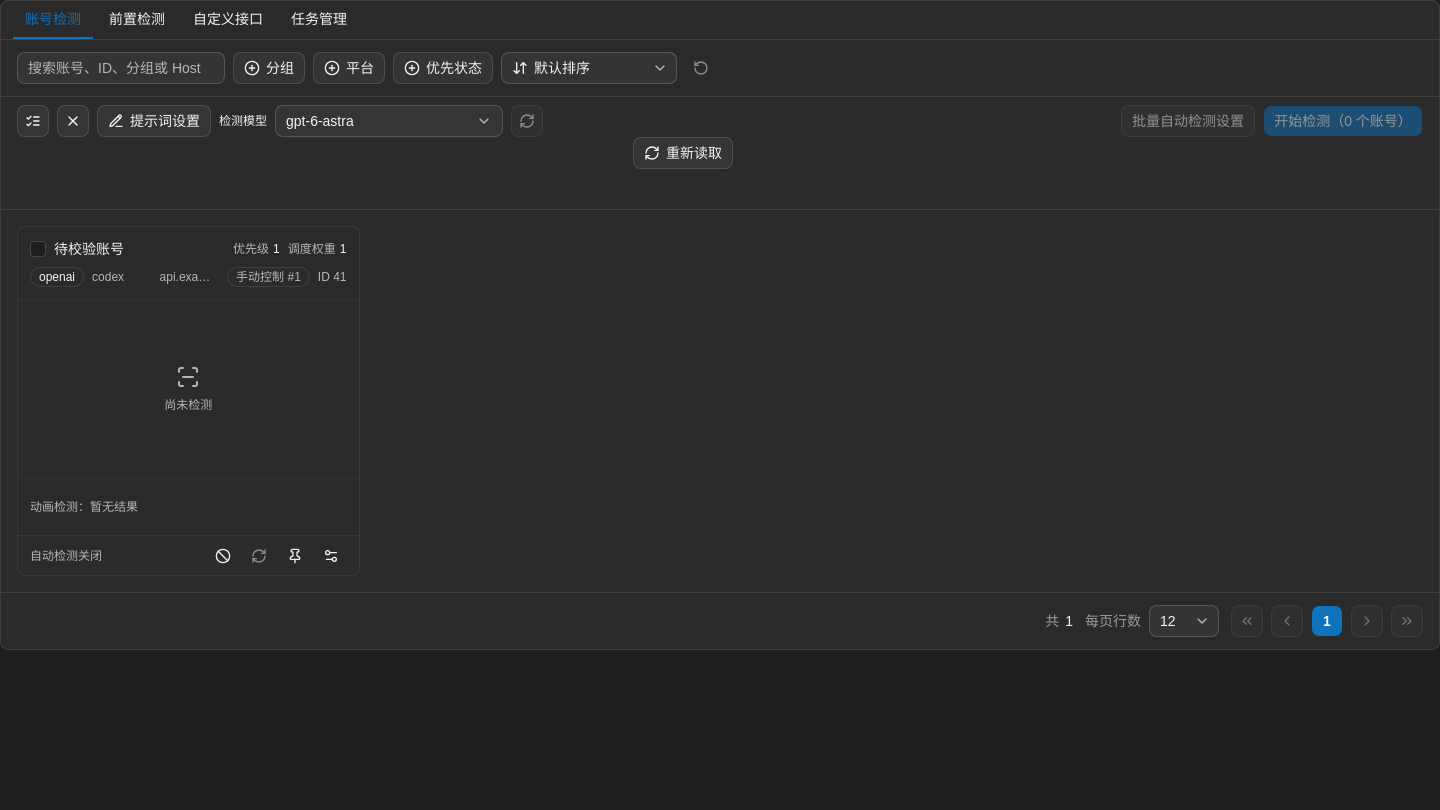
Test: 手动控制筛选下取消成功后，账号立即退出列表
Click the button with aria-label "优先状态筛选".
click(443, 68)  # box [393, 52, 493, 84]
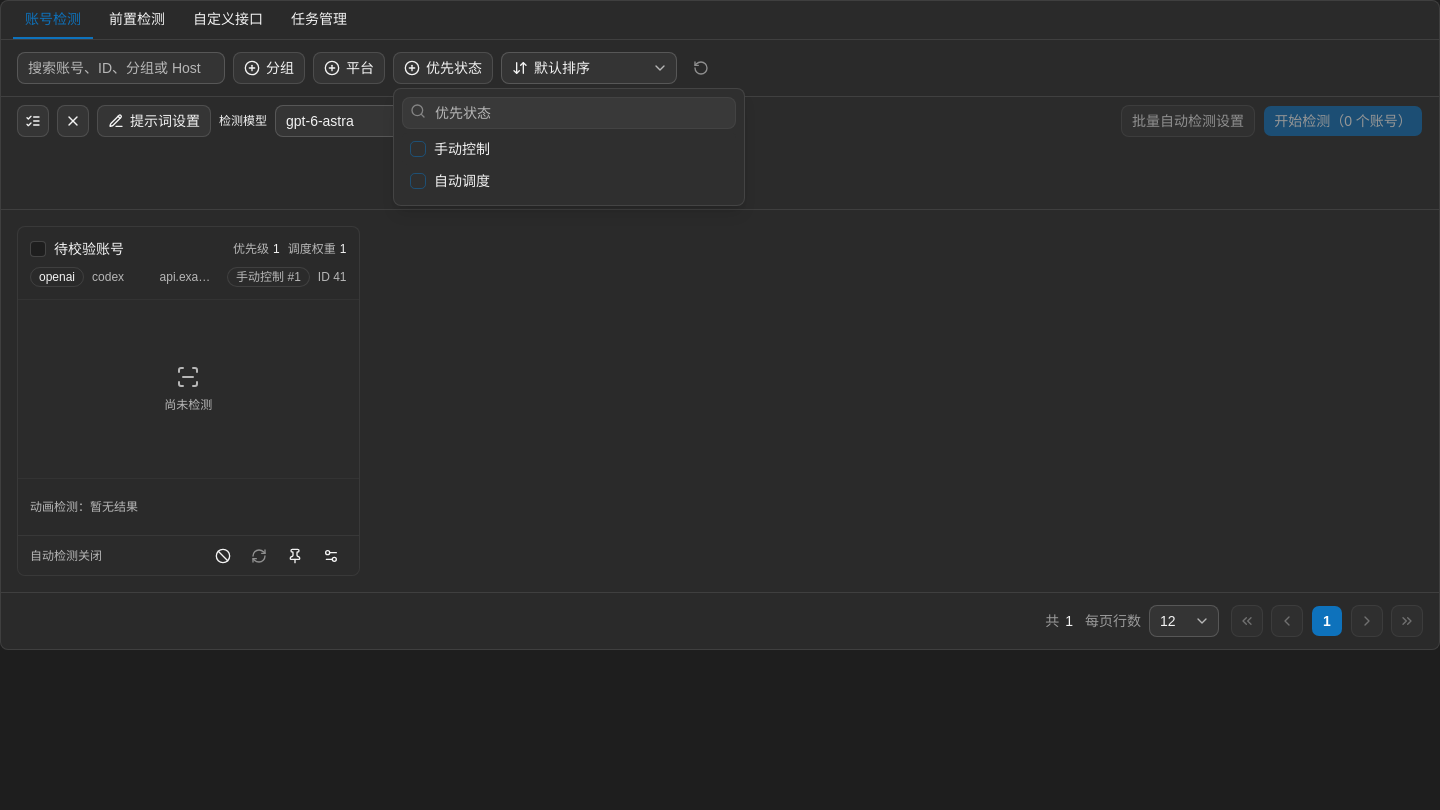
Click the option "手动控制".
click(462, 149)  # box [402, 133, 736, 165]
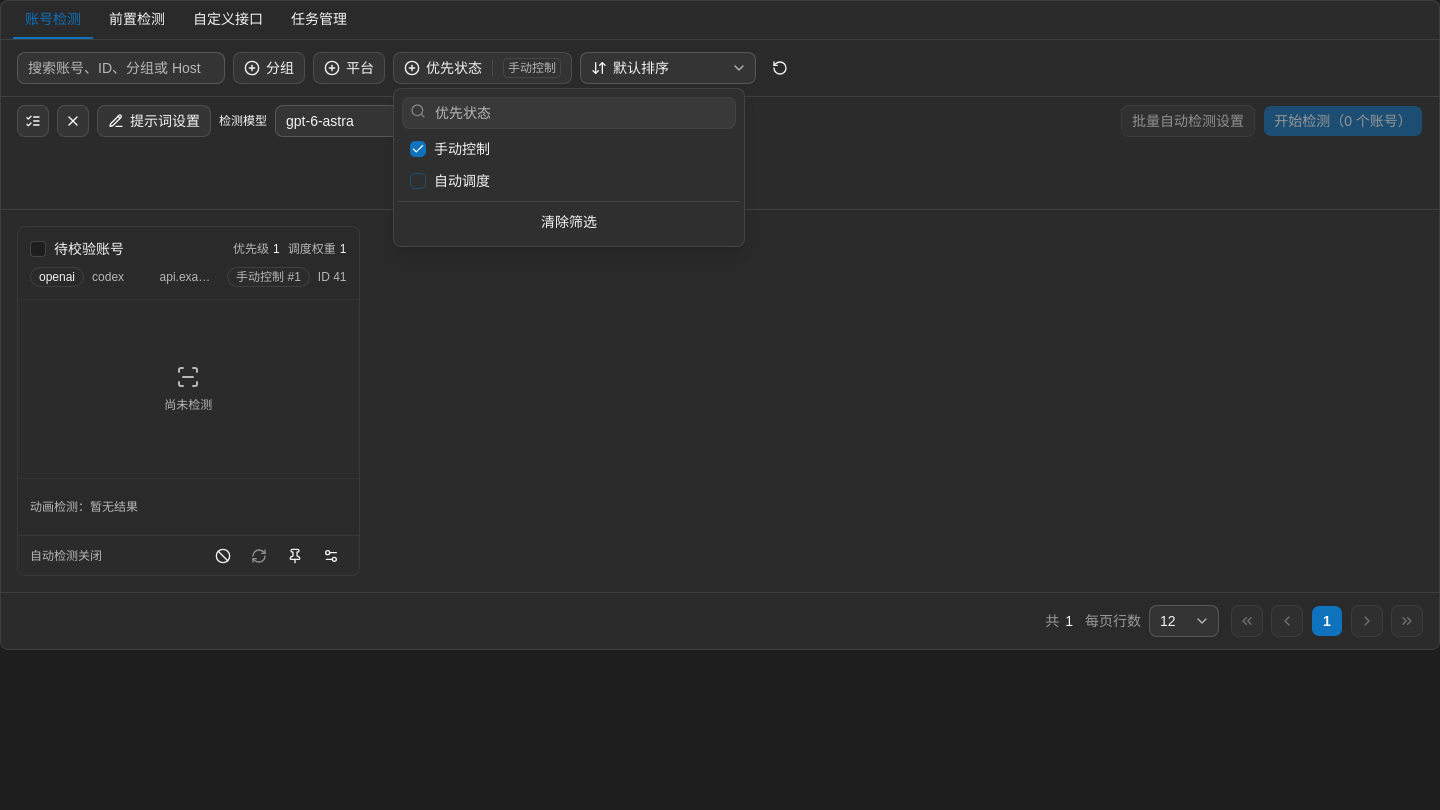
Press Escape
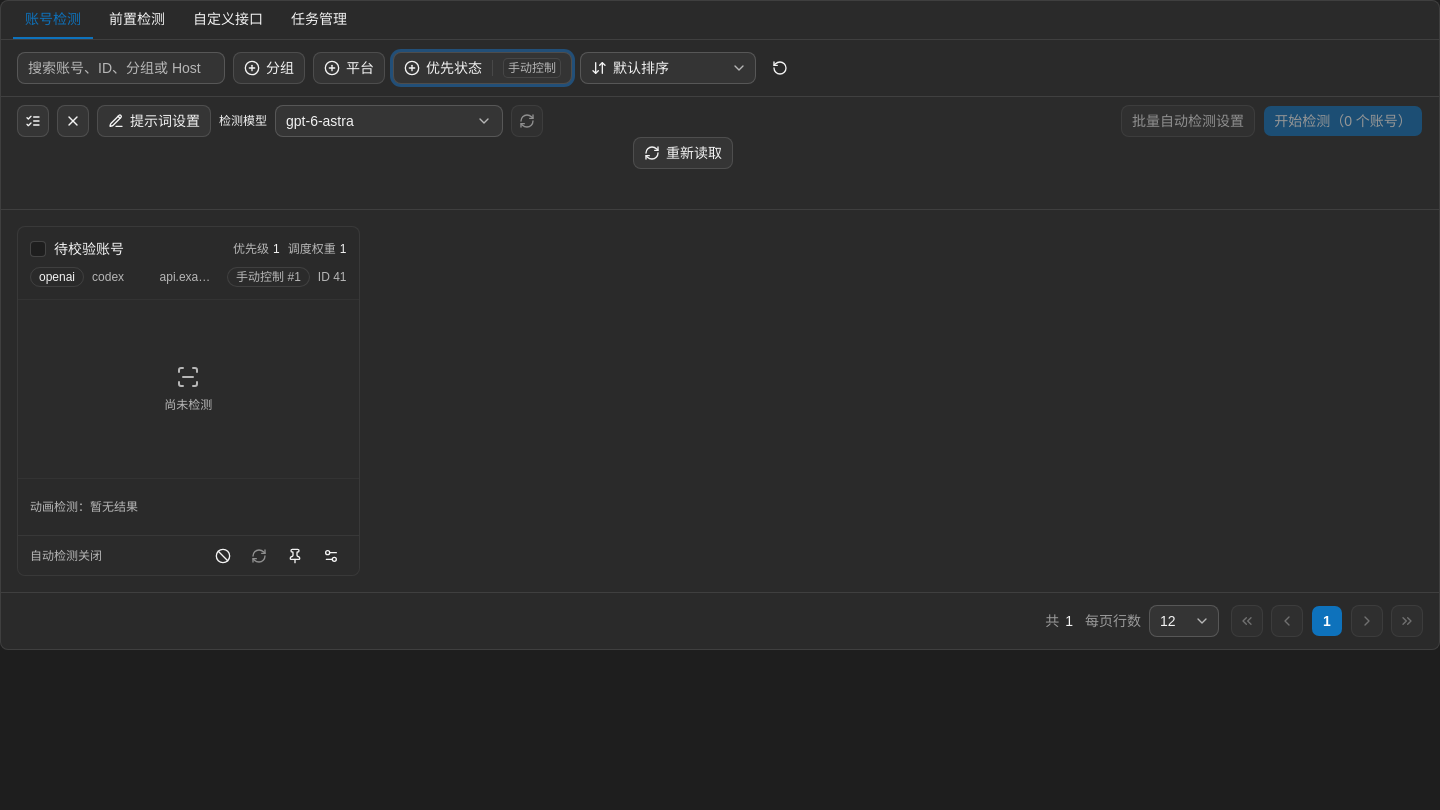
Click the button named "调整手动控制".
click(294, 556)  # box [278, 540, 310, 572]
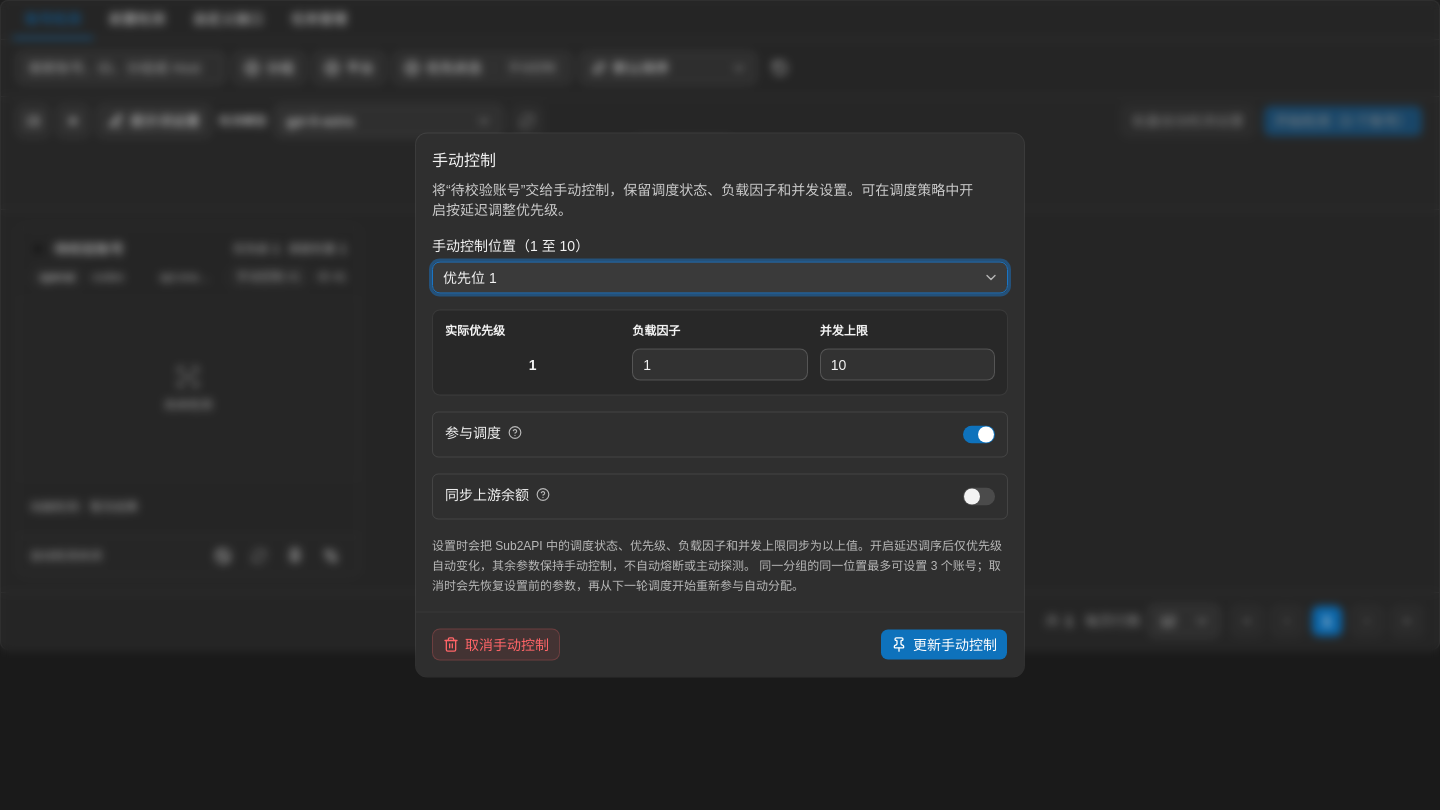
Click the button "取消手动控制".
click(496, 644)  # box [432, 628, 560, 660]
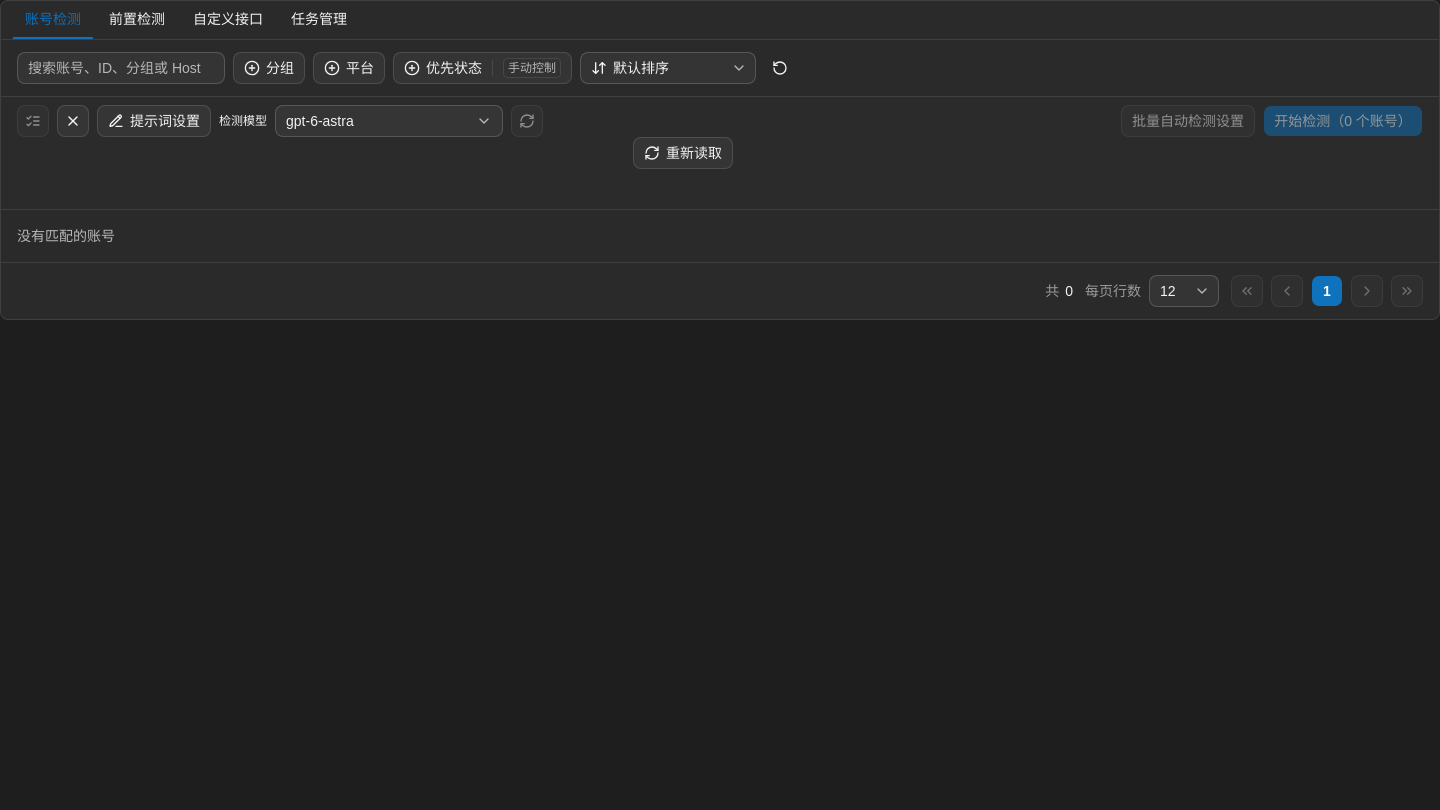
Expected: the dialog is gone
